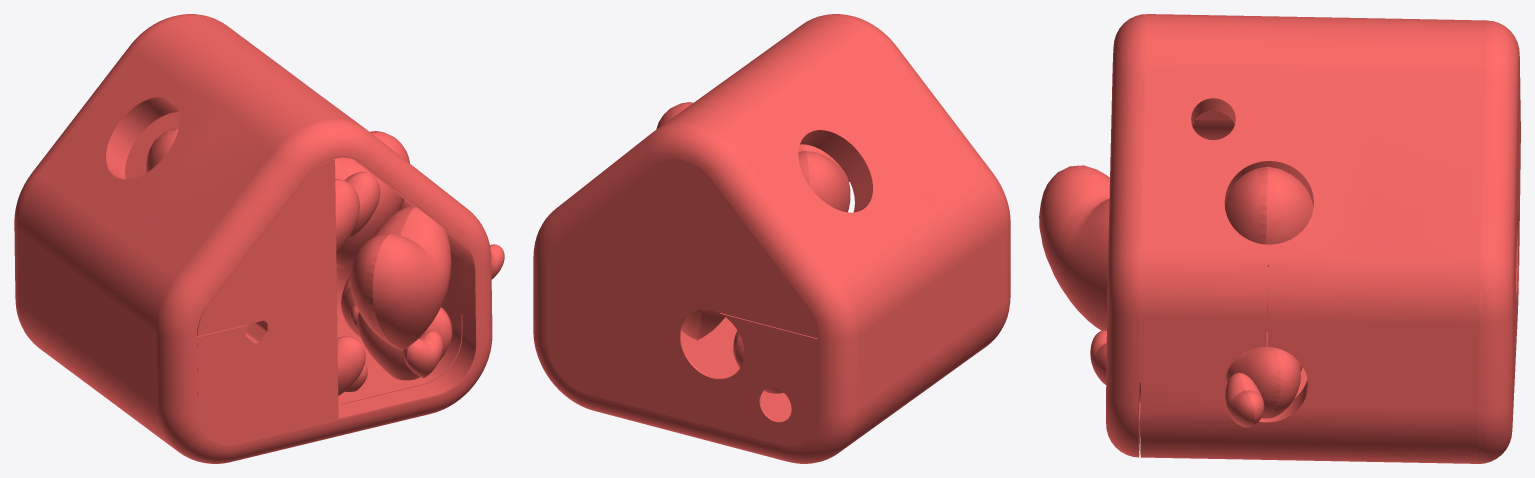
File: Homie_Hearts.glb
3 views of the same model, side by side, from view 1: azimuth 30°, elevation 25°; view 2: azimuth 150°, elevation 25°; view 3: azimuth 270°, elevation 25° (orthographic). The views are drawn at different scales.
Visible parts, largest first — view 1: connector; view 2: connector; view 3: connector.
Part boxes in pixels (bbox=[...]): connector: bbox=[14, 14, 504, 463]; connector: bbox=[533, 14, 1010, 463]; connector: bbox=[1039, 14, 1520, 463].
Bounding box in the file's own units: 61.2 × 47.75 × 55.58.
